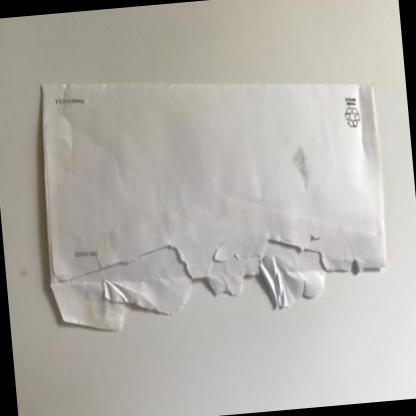Paper: (41, 82, 385, 329)
